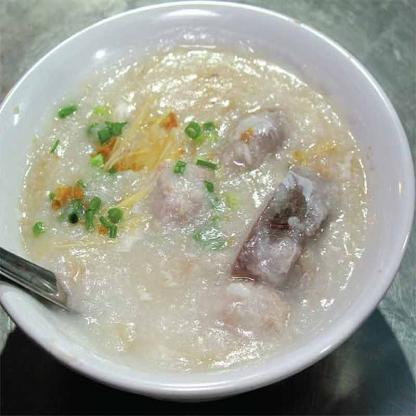Joke: (0, 41, 389, 378)
